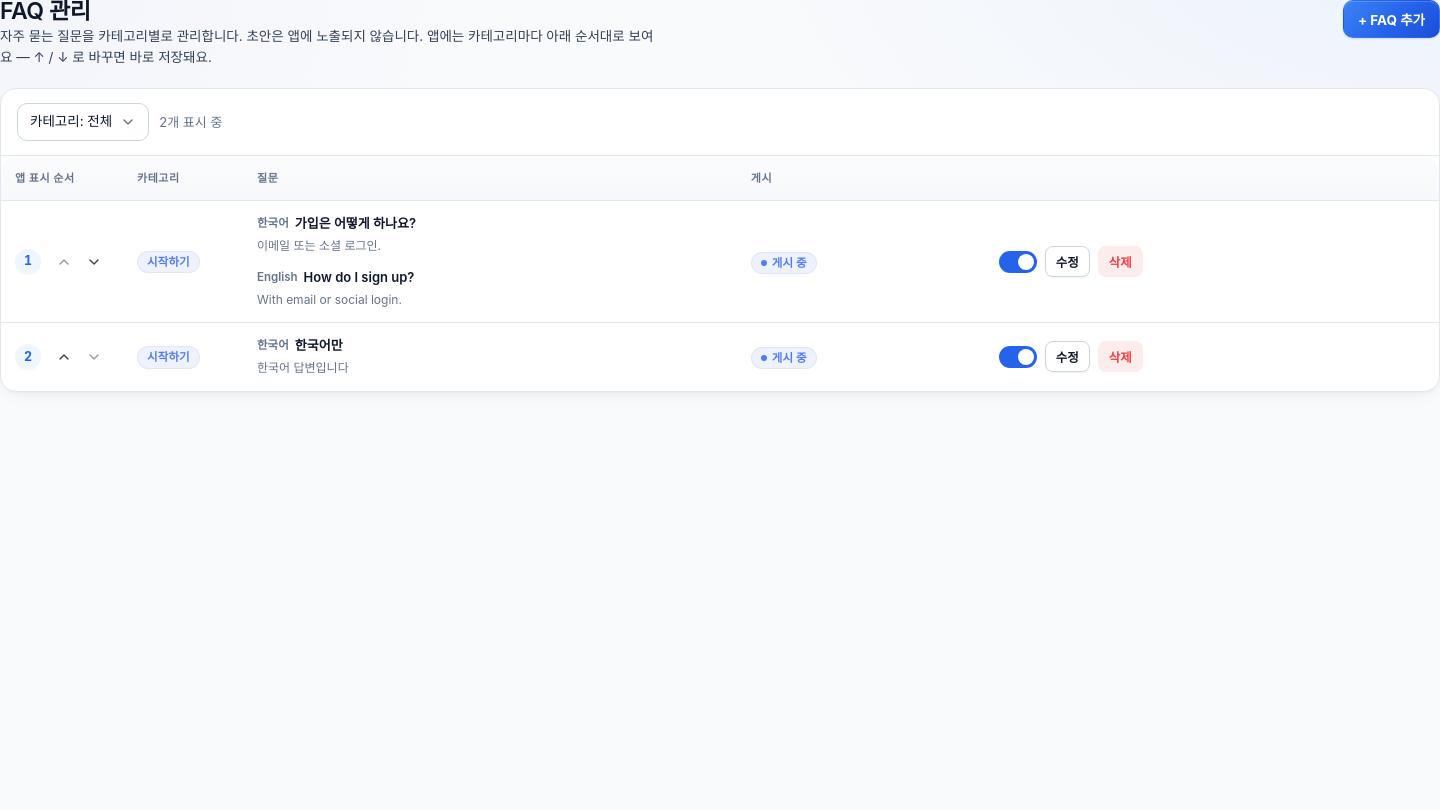
it: extensible language set › offers a field pair for every supported app language
Expected: the text "한국어 가입은 어떻게 하나요?" is shown, [257,215,416,231]
Step 1. Click the button "+ FAQ 추가" → (1391, 19), box [1343,0,1439,38]
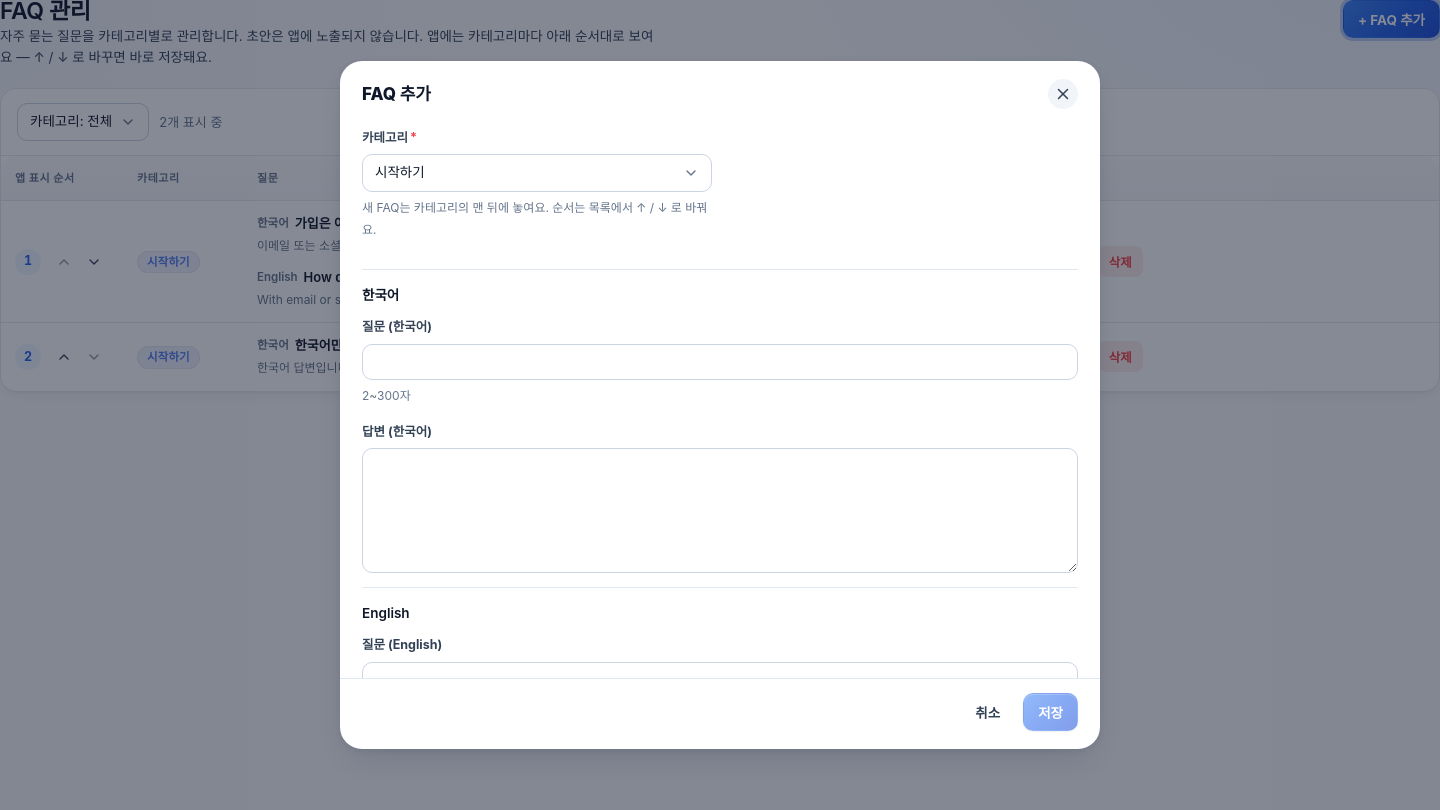
Now the field labelled "질문 (한국어) 2~300자" is shown, box [362,344,1078,380]
Now the text box labelled "답변 (한국어)" is shown, box [362,448,1078,573]
